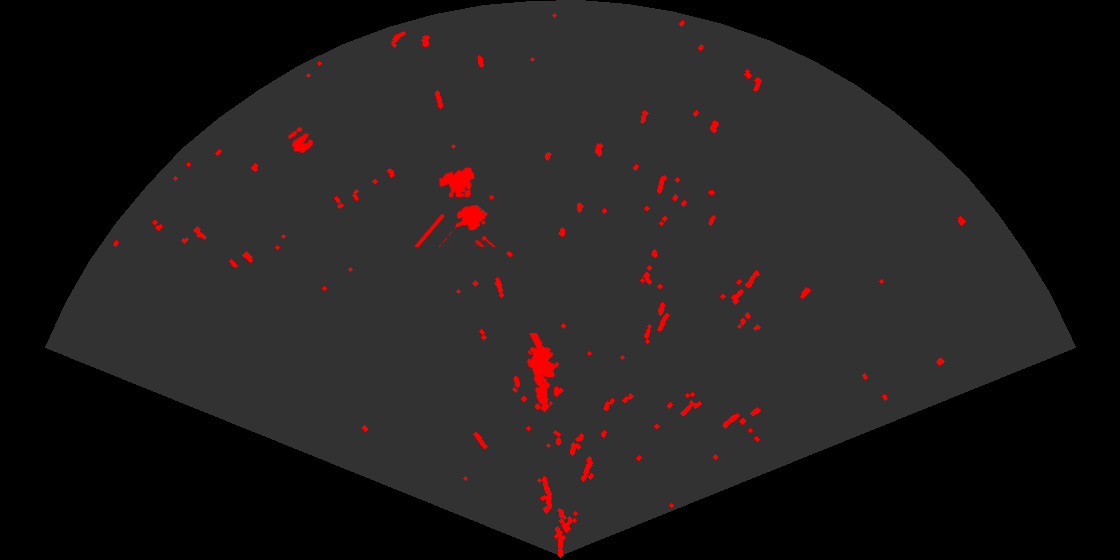ball: (286, 125, 315, 155)
cage: (415, 166, 497, 247)
frogman: (525, 333, 561, 414)
